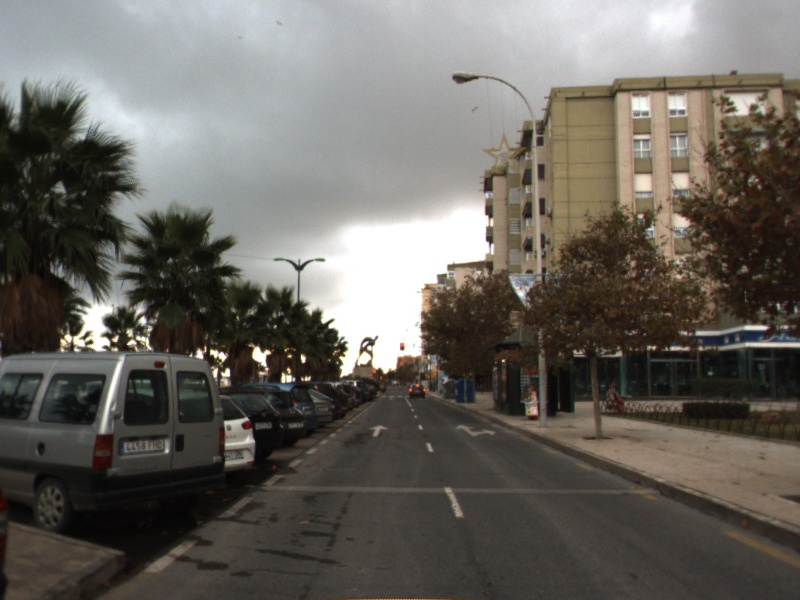STRAIGHT: (368, 423, 390, 438)
STRAIGHT_RIGHT: (453, 422, 498, 438)
